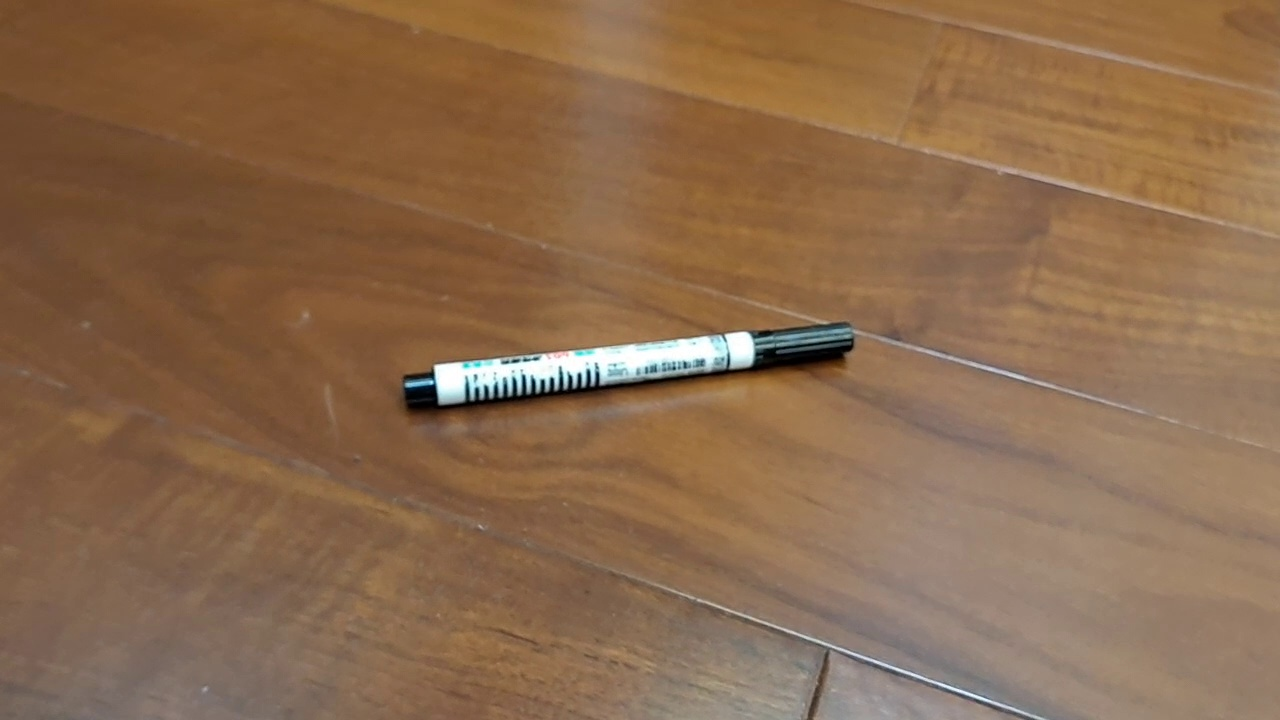pen: (402, 320, 856, 411)
